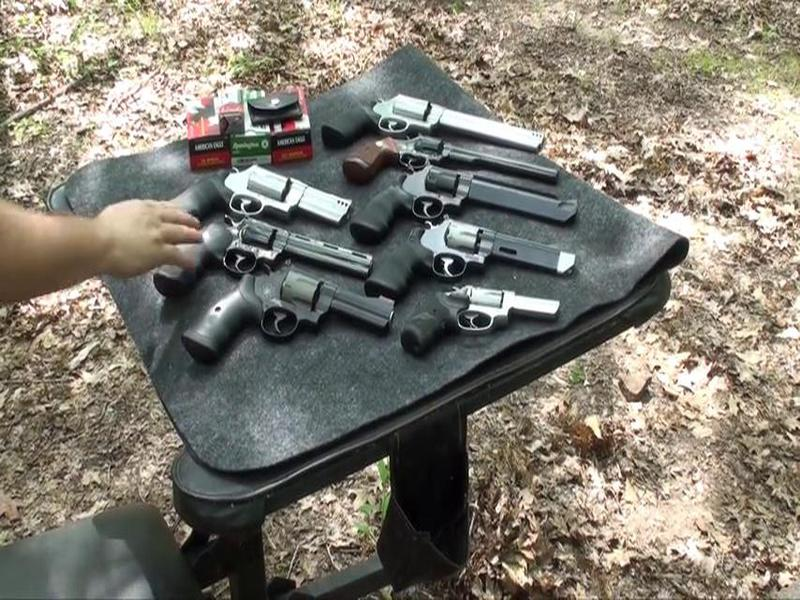Revolver: (190, 261, 397, 395), (323, 78, 547, 154), (403, 270, 565, 367)
